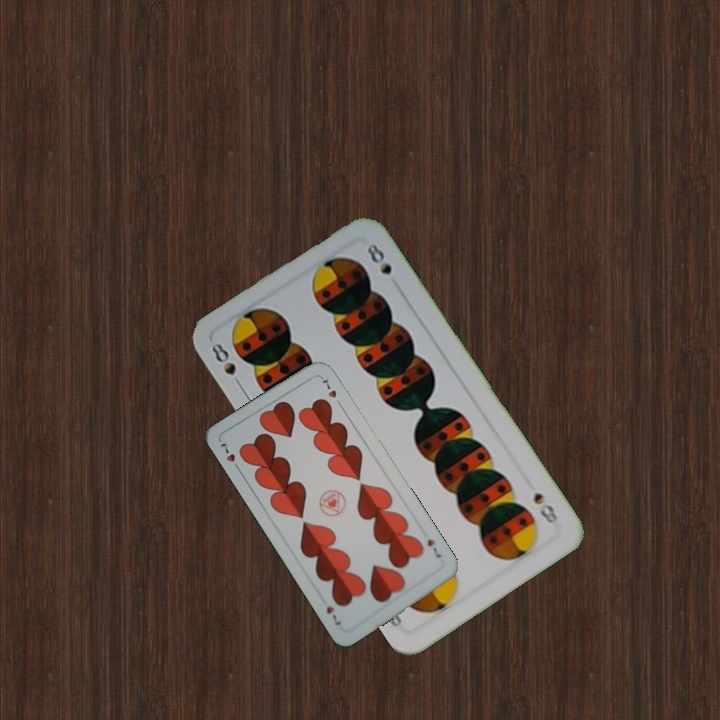H7: (216, 439, 243, 474), (423, 535, 444, 561)
S8: (207, 338, 246, 392), (529, 488, 561, 526)
